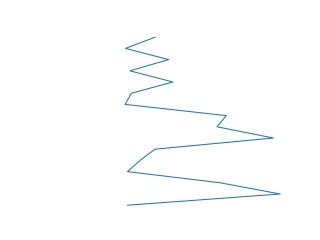majorRiverBedLagDeposit: (117, 37, 280, 210)
